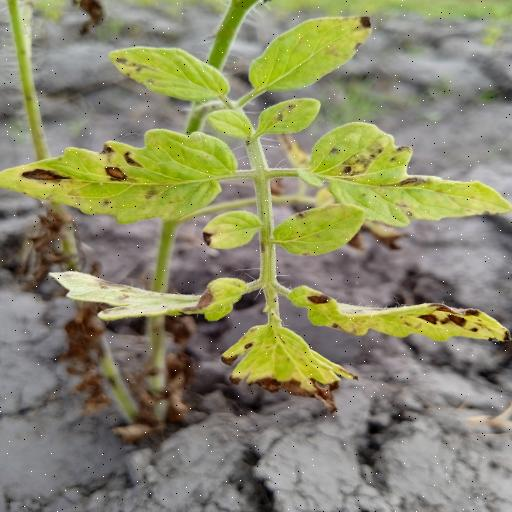Tomato_Brown_Spots: (0, 127, 244, 227), (297, 123, 512, 227), (288, 281, 512, 348), (48, 266, 250, 324), (245, 12, 376, 96), (106, 44, 230, 104)
